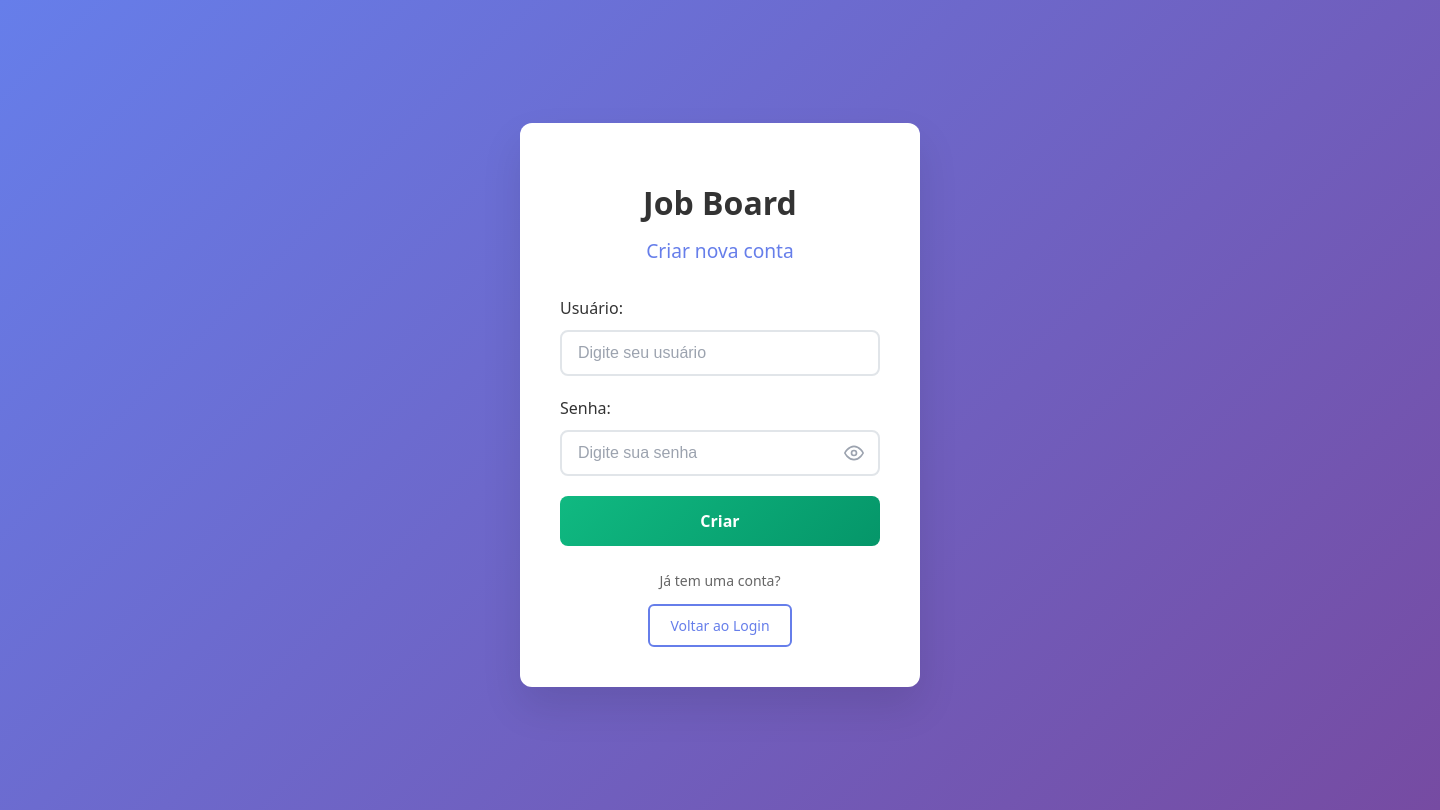
Test: Register › shows error when submitting with empty fields
This screenshot has width=1440, height=810.
Click the button "Criar": click(720, 520) top-left (560, 496), bottom-right (880, 546)
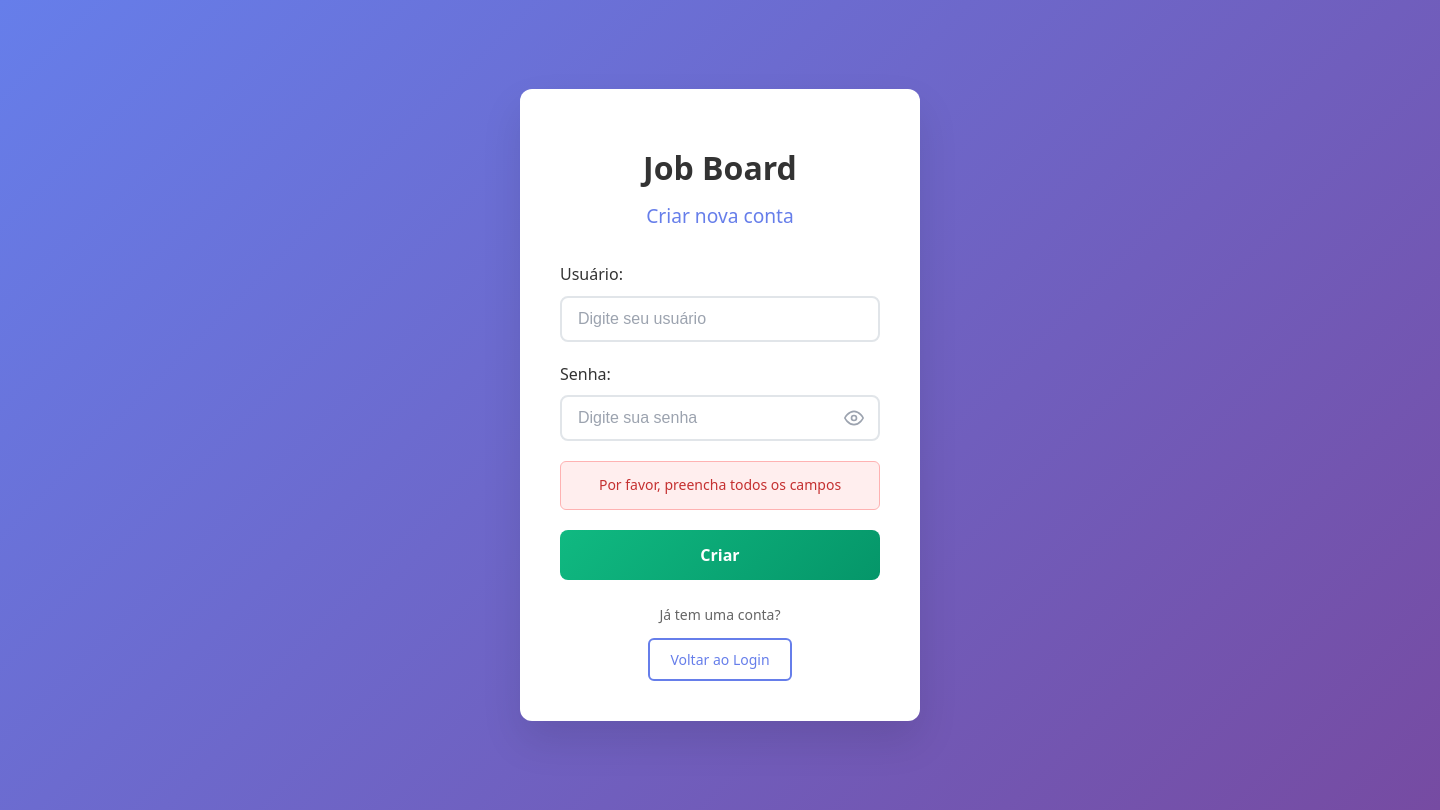
Check: the text "Por favor, preencha todos os campos" is shown, box top-left (560, 461), bottom-right (880, 510)
